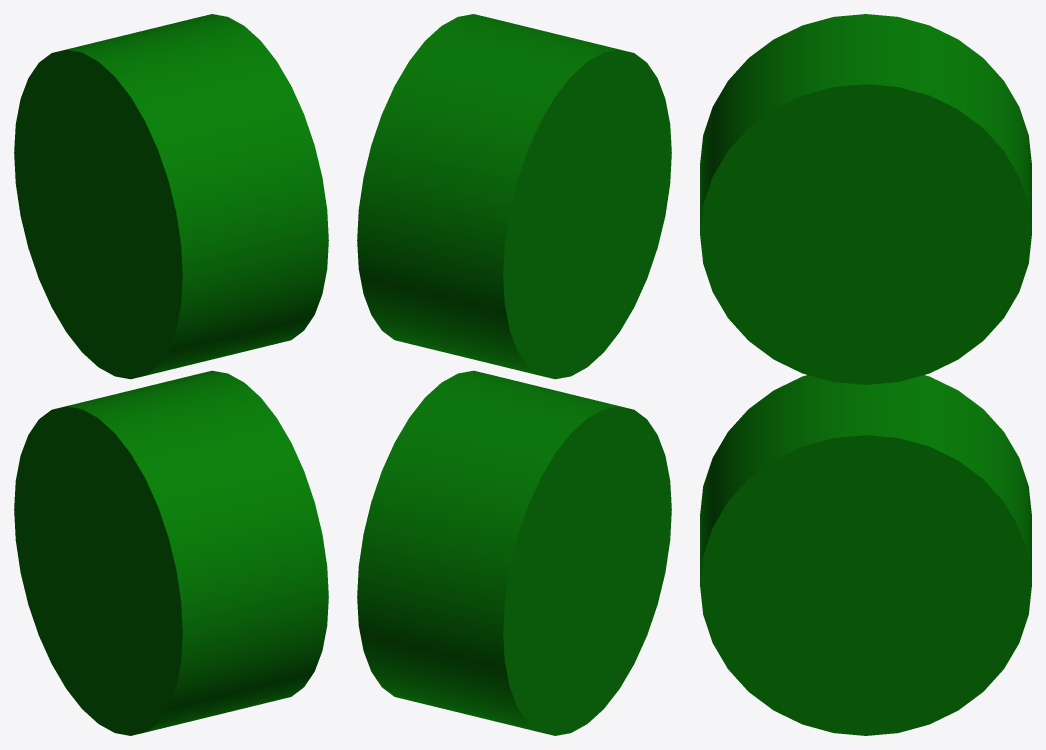
File: Image-1710907747229-2281184236768_US-12.fbx
3 views of the same model, side by side, from view 1: azimuth 30°, elevation 25°; view 2: azimuth 150°, elevation 25°; view 3: azimuth 270°, elevation 25° (orthographic).
Parts seen in each view (by area): view 1: CYLINDER 1 of SUBEQUIPMENT /US-12-HOSEREELS, CYLINDER 2 of SUBEQUIPMENT /US-12-HOSEREELS; view 2: CYLINDER 1 of SUBEQUIPMENT /US-12-HOSEREELS, CYLINDER 2 of SUBEQUIPMENT /US-12-HOSEREELS; view 3: CYLINDER 1 of SUBEQUIPMENT /US-12-HOSEREELS, CYLINDER 2 of SUBEQUIPMENT /US-12-HOSEREELS.
Boxes of the visible parts, x1=… form: CYLINDER 1 of SUBEQUIPMENT /US-12-HOSEREELS: x1=14, y1=14, x2=328, y2=379; CYLINDER 2 of SUBEQUIPMENT /US-12-HOSEREELS: x1=14, y1=370, x2=328, y2=735; CYLINDER 1 of SUBEQUIPMENT /US-12-HOSEREELS: x1=357, y1=14, x2=671, y2=379; CYLINDER 2 of SUBEQUIPMENT /US-12-HOSEREELS: x1=357, y1=370, x2=671, y2=735; CYLINDER 1 of SUBEQUIPMENT /US-12-HOSEREELS: x1=700, y1=14, x2=1031, y2=384; CYLINDER 2 of SUBEQUIPMENT /US-12-HOSEREELS: x1=700, y1=375, x2=1031, y2=735.
Bounding box in the file's own units: 0.3 × 0.6 × 1.3.
